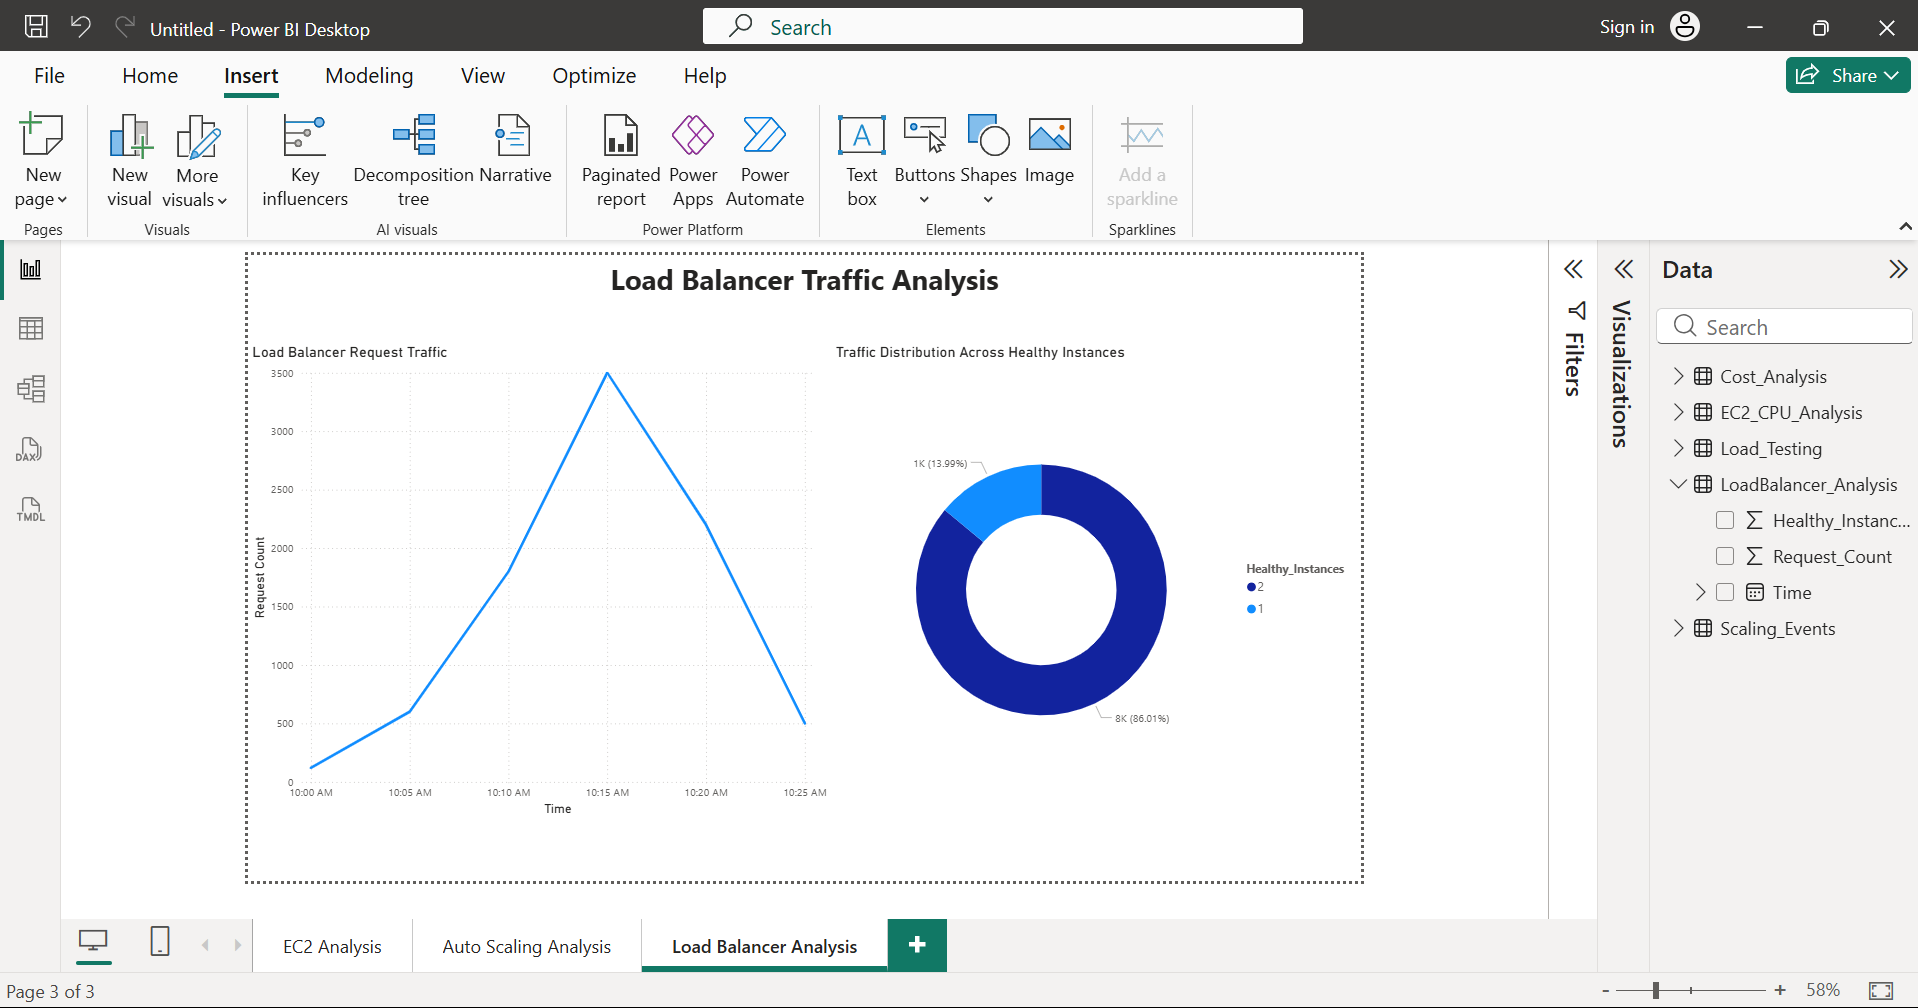

Layout of this report page (visuals, bound fields, positions):
{"tool":"powerbi","page":{"name":"Load Balancer Analysis","canvas":[1280,720],"ordinal":2},"visuals":[{"type":"textbox","box":[387.9,0,503.4,58.6],"z":0},{"type":"lineChart","title":"Load Balancer Request Traffic","fields":{"Category":["LoadBalancer_Analysis.Time"],"Y":["Sum(LoadBalancer_Analysis.Request_Count)"]},"box":[0,101.7,670.7,546.6],"z":1000},{"type":"donutChart","title":"Traffic Distribution Across Healthy Instances","fields":{"Category":["LoadBalancer_Analysis.Healthy_Instances"],"Y":["Sum(LoadBalancer_Analysis.Request_Count)"]},"box":[670.7,101.7,608.6,546.6],"z":2000}]}

Visuals, with their boxes on the page's 1280x720 design canvas (x1, y1, x2, y2). These are canvas units, not pixel positions in the 1918x1008 screenshot, which may show the page scaled, cropped or inside an application window:
textbox: x1=388, y1=0, x2=891, y2=59
"Load Balancer Request Traffic" lineChart: x1=0, y1=102, x2=671, y2=648
"Traffic Distribution Across Healthy Instances" donutChart: x1=671, y1=102, x2=1279, y2=648
